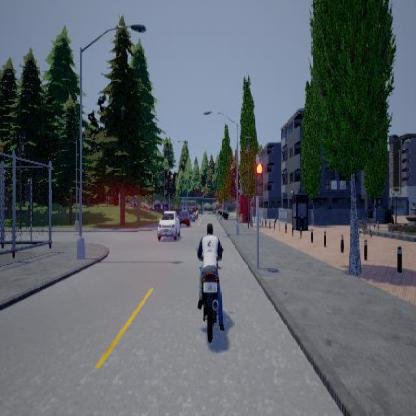motobike: (195, 220, 225, 344)
traffic_light_red: (255, 157, 262, 202)
vehicle: (157, 207, 181, 241)
